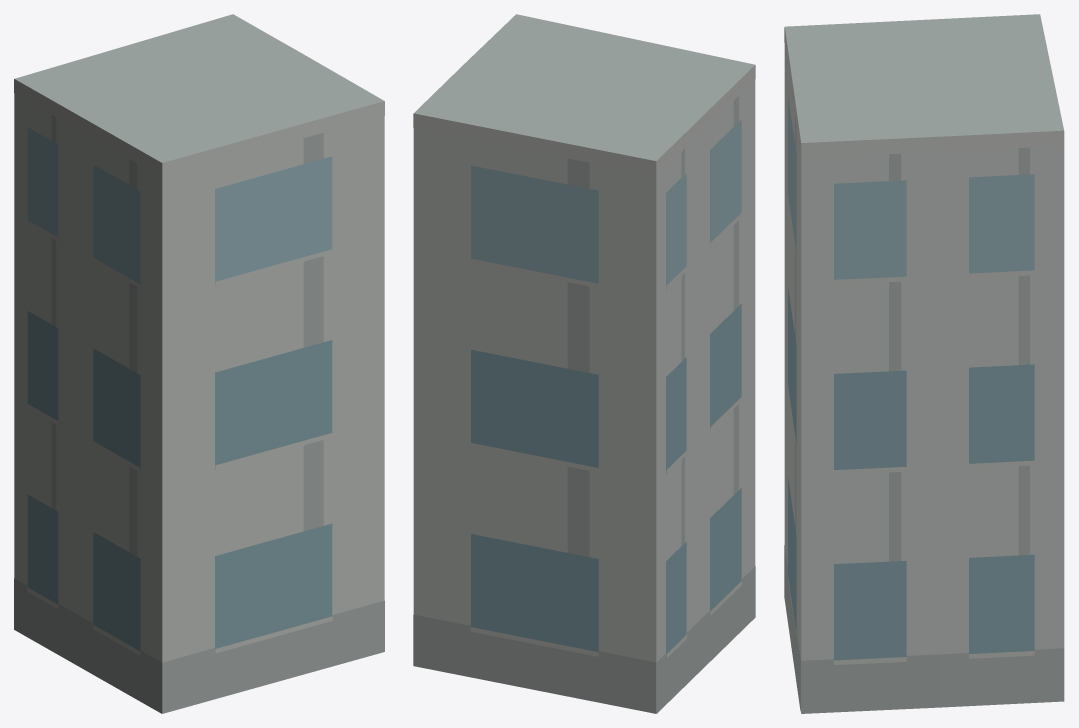
File: survey-upis-32634487.glb
3 renders of one model, left to right at view 1: azimuth 30°, elevation 25°; view 2: azimuth 150°, elevation 25°; view 3: azimuth 270°, elevation 25°, orthographic. The views are drawn at different scales.
Parts seen in each view (by area): view 1: survey-upis-32634487.tmp; view 2: survey-upis-32634487.tmp; view 3: survey-upis-32634487.tmp.
Part boxes in pixels (box(x1,y1,x2,y2)): survey-upis-32634487.tmp: box(14, 14, 384, 713); survey-upis-32634487.tmp: box(413, 14, 755, 713); survey-upis-32634487.tmp: box(784, 14, 1064, 713).
Size of the model in its own units: 4.45 by 9.15 by 4.07.
